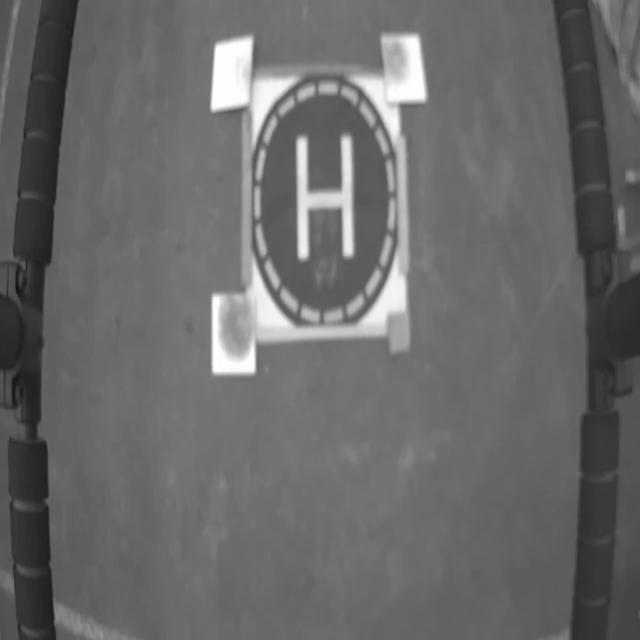Helipad: (296, 133, 354, 262)
